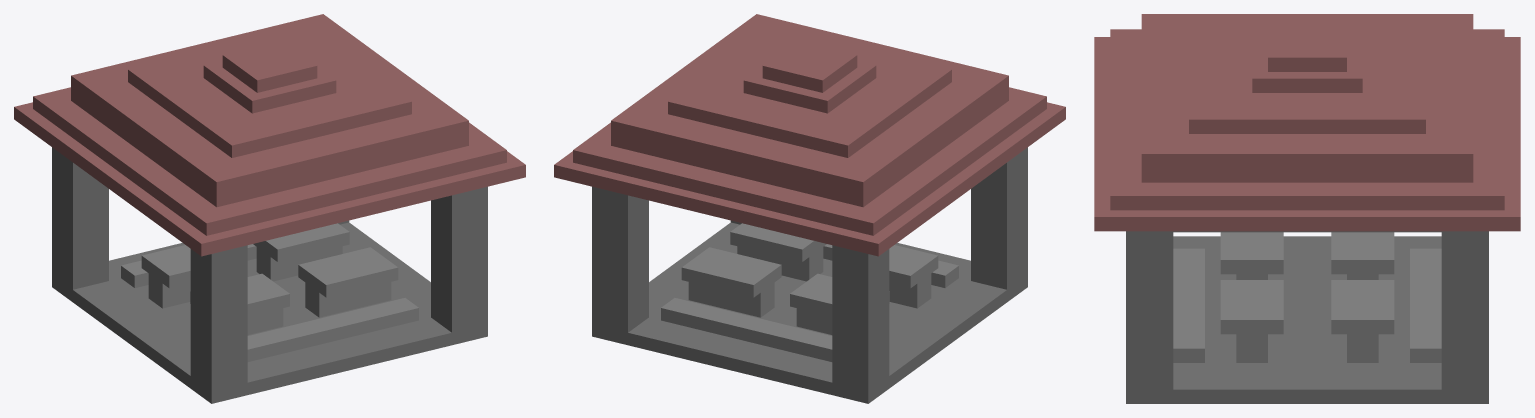
File: Kiosko.fbx
3 views of the same model, side by side, from view 1: azimuth 30°, elevation 25°; view 2: azimuth 150°, elevation 25°; view 3: azimuth 270°, elevation 25° (orthographic). The views are drawn at different scales.
Parts seen in each view (by area): view 1: kiosko; view 2: kiosko; view 3: kiosko.
Part boxes in pixels (box(x1,y1,x2,y2)): kiosko: box(14, 14, 525, 403); kiosko: box(554, 14, 1065, 403); kiosko: box(1094, 14, 1520, 403).
Bounding box in the file's own units: 270 × 200 × 270.
1 material, 1 textured.
